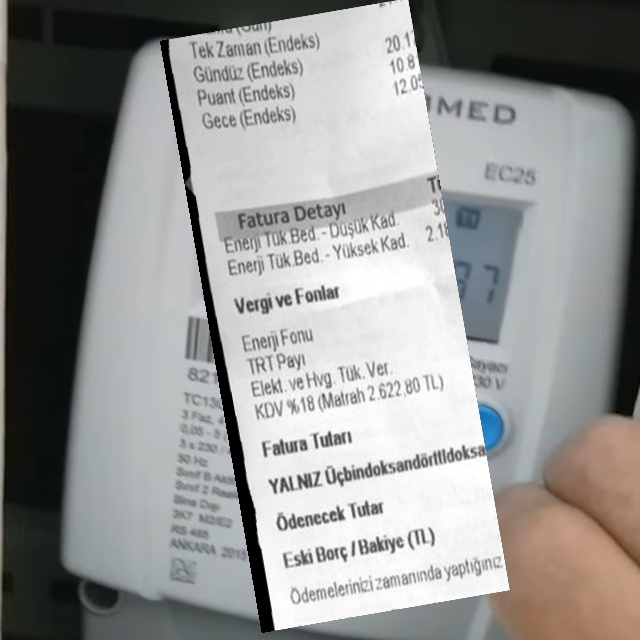electricity-bill: (159, 0, 509, 632)
